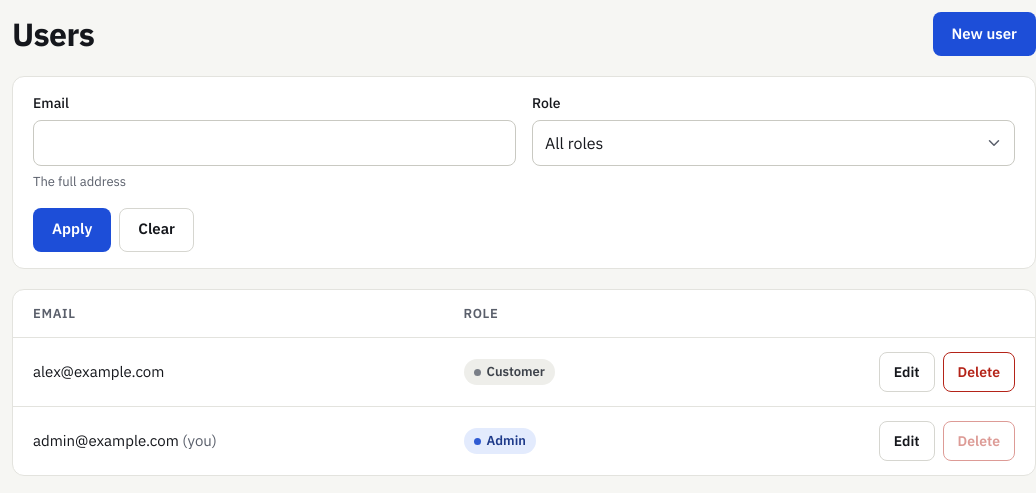
Admin users › lists users and filters by role
Expected: the number of rows is 3, 13,290 -> 1035,338; 13,338 -> 1035,406; 13,406 -> 1035,475
Select "Customer" in the dropdown labelled "Role" at (774, 143), box 532,120 -> 1015,166
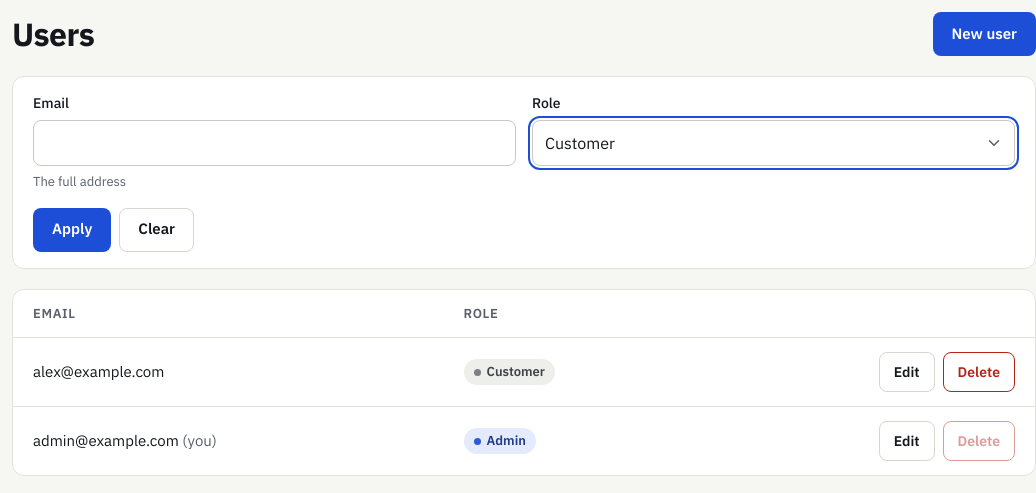
Click the button "Apply" at (72, 230), box 33,208 -> 111,252
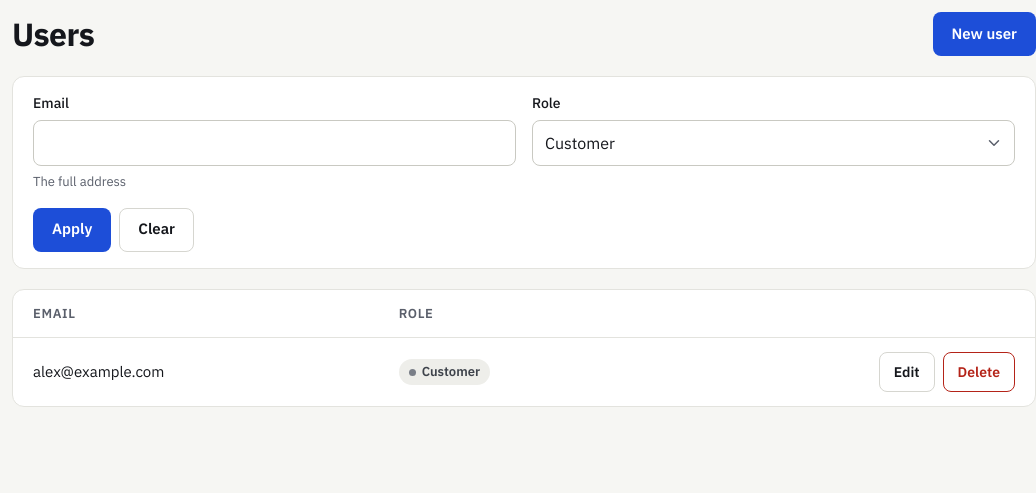
Expected: the number of rows is 2, 13,290 -> 1035,338; 13,338 -> 1035,406
